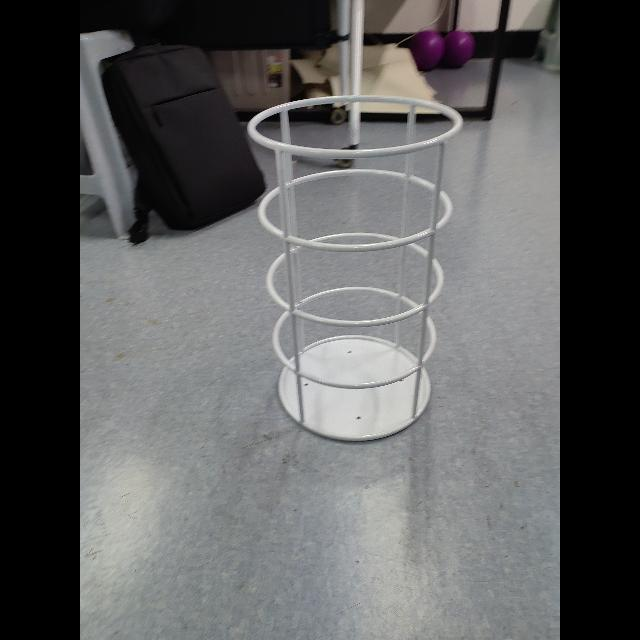S: (242, 92, 468, 446)
